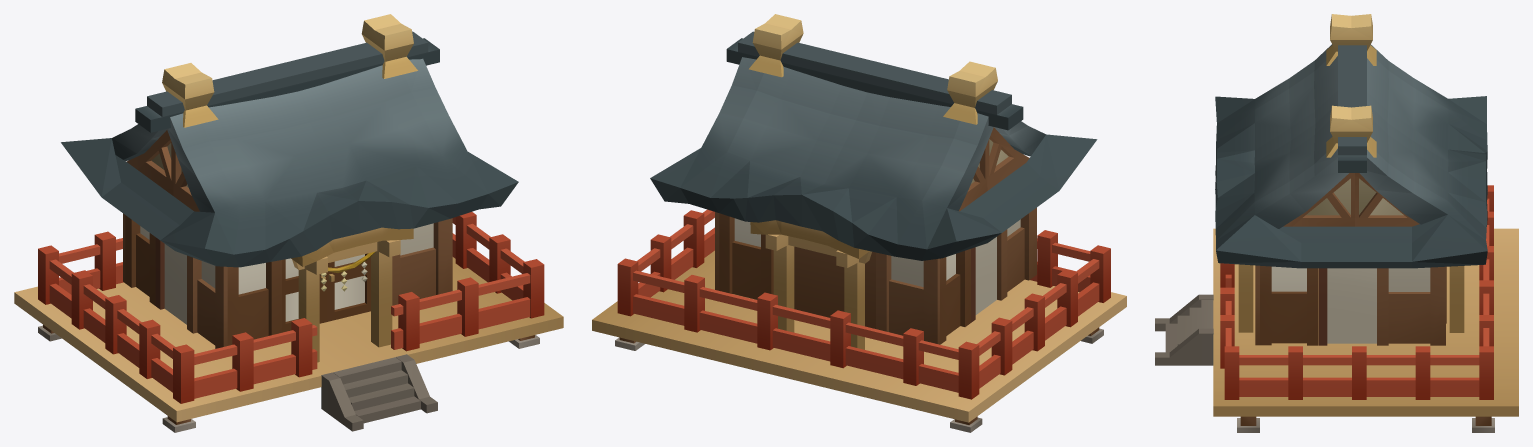
The model's file is House_Shrine.gltf.
3 renders of one model, left to right at view 1: azimuth 30°, elevation 25°; view 2: azimuth 150°, elevation 25°; view 3: azimuth 270°, elevation 25°, orthographic. The views are drawn at different scales.
Visible parts, largest first — view 1: Shrine_Roof_wSupport.001, Shrine_Fence.001, Shrine_Base.001, House_Wall_Corner.017, House_Wall_Corner.020, Shrine_Stairs_Mid.001, House_Door_1m_R.002, Shrine_Stairs_Side.001, House_Wall_Corner.018, House_Wall_1m.011, House_Door_1m_L.002, Shrine_BaseSupport.001; view 2: Shrine_Roof_wSupport.001, Shrine_Fence.001, Shrine_Base.001, House_Wall_Corner.018, House_Wall_Corner.019, House_Wall_2m_Brown.003, House_Wall_Corner.017, House_Wall_1m.011, Shrine_BaseSupport.001; view 3: Shrine_Roof_wSupport.001, Shrine_Base.001, Shrine_Fence.001, House_Wall_Corner.019, House_Wall_Corner.020, House_Wall_1m.008, Shrine_Stairs_Side.001, Shrine_Stairs_Mid.001, Shrine_BaseSupport.001.
Part boxes in pixels (box(x1,y1,x2,y2)): Shrine_Roof_wSupport.001: box(61, 14, 518, 362); Shrine_Fence.001: box(38, 212, 544, 403); Shrine_Base.001: box(14, 257, 563, 422); House_Wall_Corner.017: box(187, 255, 281, 348); House_Wall_Corner.020: box(392, 218, 452, 305); Shrine_Stairs_Mid.001: box(333, 357, 420, 423); House_Door_1m_R.002: box(326, 253, 370, 321); Shrine_Stairs_Side.001: box(321, 354, 437, 431); House_Wall_Corner.018: box(123, 213, 155, 305); House_Wall_1m.011: box(155, 237, 186, 324); House_Door_1m_L.002: box(282, 258, 326, 332); Shrine_BaseSupport.001: box(38, 325, 539, 432); Shrine_Roof_wSupport.001: box(650, 14, 1097, 349); Shrine_Fence.001: box(617, 209, 1110, 399); Shrine_Base.001: box(592, 250, 1126, 422); House_Wall_Corner.018: box(876, 249, 970, 344); House_Wall_Corner.019: box(715, 212, 773, 299); House_Wall_2m_Brown.003: box(794, 246, 875, 328); House_Wall_Corner.017: box(997, 207, 1036, 300); House_Wall_1m.011: box(971, 237, 996, 322); Shrine_BaseSupport.001: box(615, 327, 1103, 432); Shrine_Roof_wSupport.001: box(1215, 14, 1487, 332); Shrine_Base.001: box(1213, 228, 1518, 416); Shrine_Fence.001: box(1220, 185, 1493, 399); House_Wall_Corner.019: box(1377, 266, 1446, 345); House_Wall_Corner.020: box(1255, 265, 1318, 345); House_Wall_1m.008: box(1318, 268, 1376, 345); Shrine_Stairs_Side.001: box(1155, 294, 1213, 365); Shrine_Stairs_Mid.001: box(1165, 300, 1213, 352); Shrine_BaseSupport.001: box(1237, 416, 1494, 432).
Bounding box in the file's own units: 7.2 × 5.28 × 6.23.
1 material, 1 textured.
